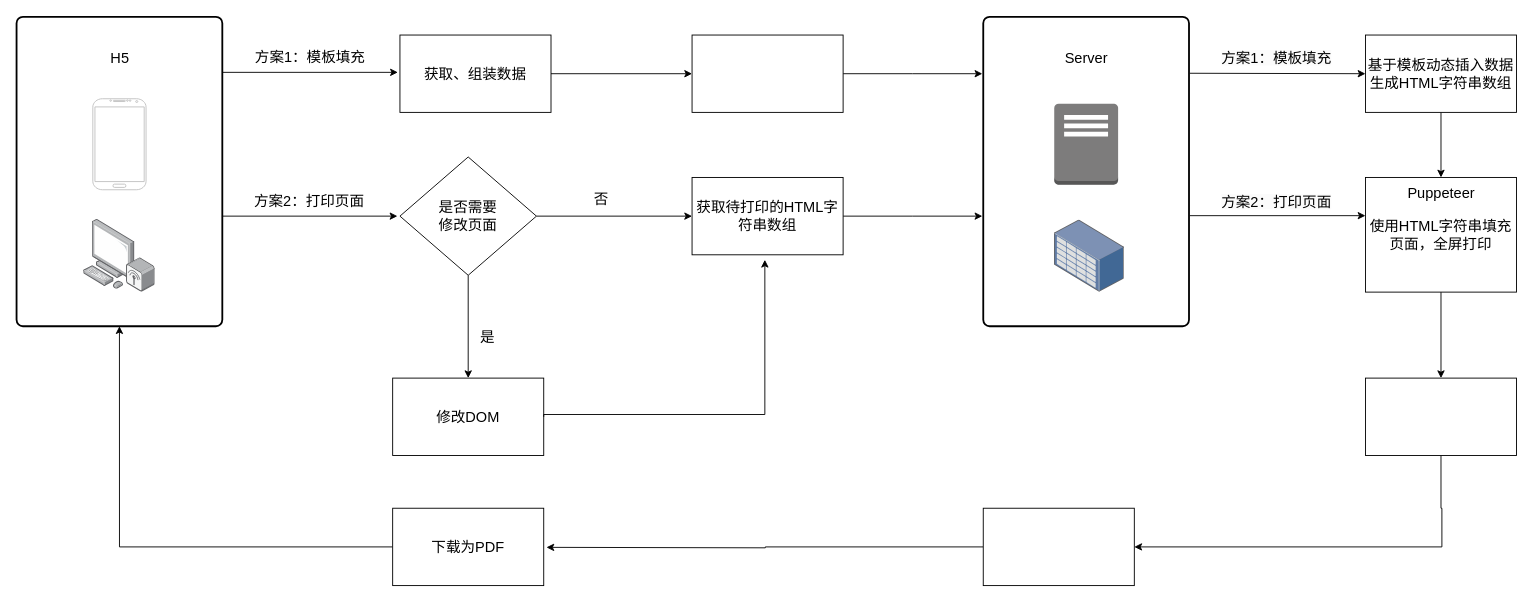
This 1532x602 diagram has some shape labels left out. The centre of each missing label's shape, as x and y in pixels:
压缩、合并PDF: (x=1441, y=416)
提供静态模板（HTML、CSS）: (x=767, y=73)
转为Blob格式返回: (x=1058, y=546)
